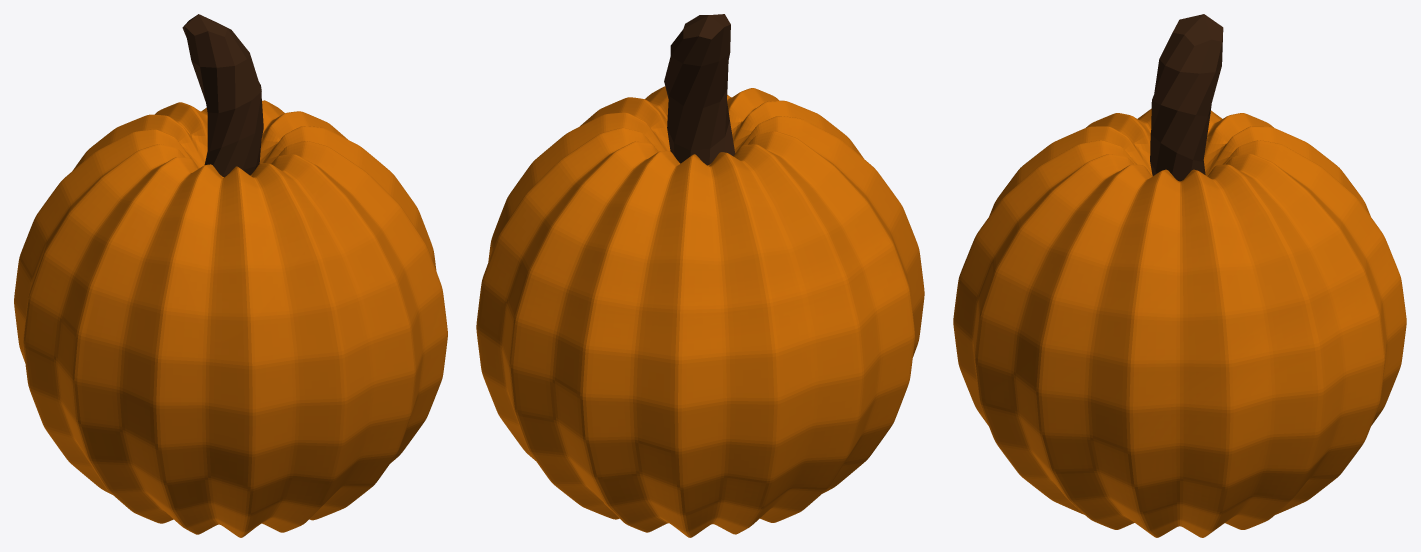
The model's file is Pumpkin.fbx.
3 renders of one model, left to right at view 1: azimuth 30°, elevation 25°; view 2: azimuth 150°, elevation 25°; view 3: azimuth 270°, elevation 25°, orthographic. The views are drawn at different scales.
Parts seen in each view (by area): view 1: Sphere, Circle; view 2: Sphere, Circle; view 3: Sphere, Circle.
Part boxes in pixels (x1,y1,x2,y2): Sphere: (14, 100, 447, 537); Circle: (182, 14, 263, 177); Sphere: (476, 86, 924, 537); Circle: (664, 14, 735, 165); Sphere: (953, 108, 1406, 537); Circle: (1150, 14, 1223, 181).
Bounding box in the file's own units: 198 × 248 × 215.
